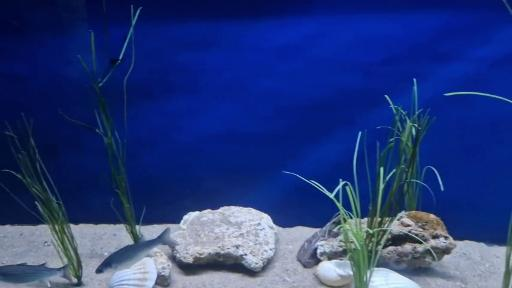Fish: (96, 228, 178, 274), (0, 263, 73, 283)
